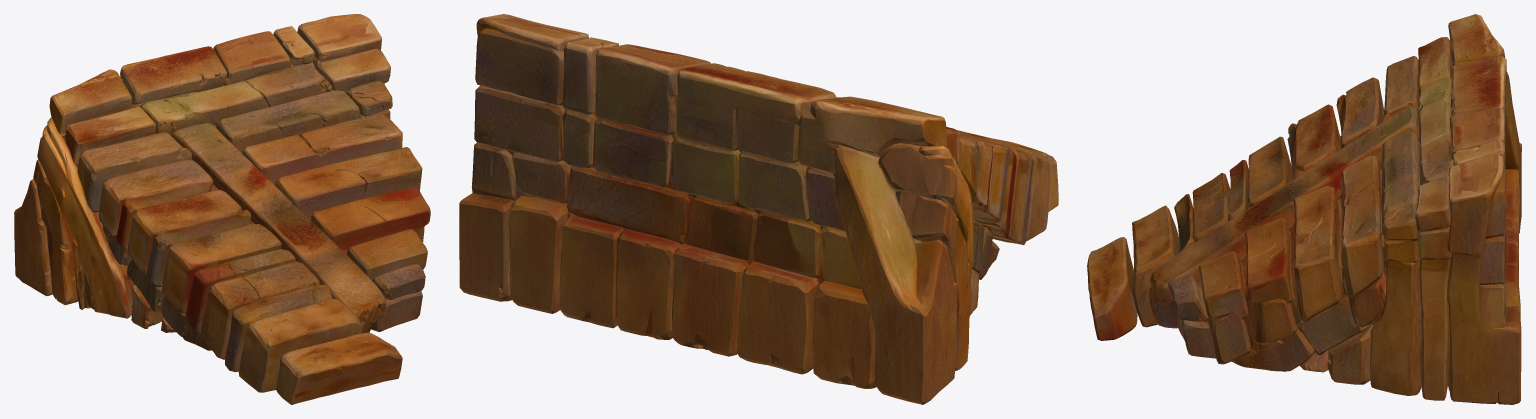
File: 餐边柜.glb
3 renders of one model, left to right at view 1: azimuth 30°, elevation 25°; view 2: azimuth 150°, elevation 25°; view 3: azimuth 270°, elevation 25°, orthographic. The views are drawn at different scales.
Visible parts, largest first — view 1: model; view 2: model; view 3: model.
Boxes of the visible parts, box(x1,y1,x2,y2) form: model: box(14, 14, 430, 404); model: box(459, 14, 1058, 404); model: box(1087, 14, 1521, 404).
Size of the model in its own units: 1.89 by 1.1 by 1.85.
Materials: 1 (1 with a texture image).
